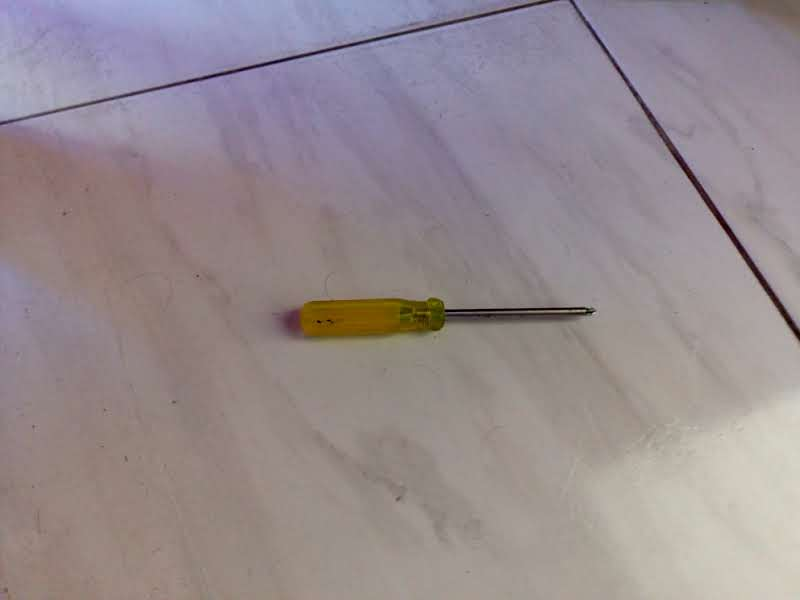Destornillador: (300, 298, 594, 337)
